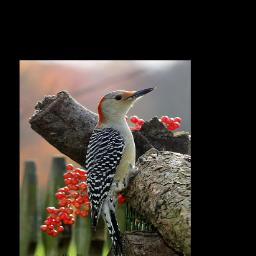Woodpecker: (86, 83, 161, 256)
